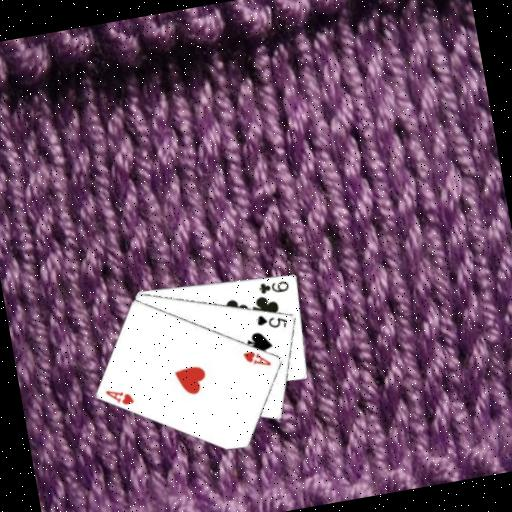5S: (252, 308, 290, 334)
9C: (254, 275, 291, 297)
AH: (238, 344, 273, 371), (102, 382, 136, 409)
